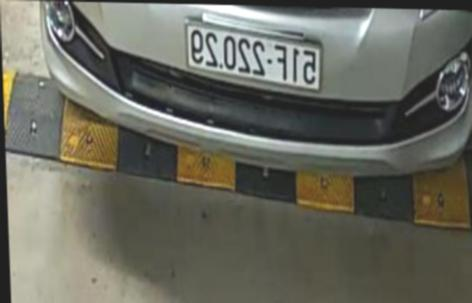License_Plate: (183, 23, 327, 90)
